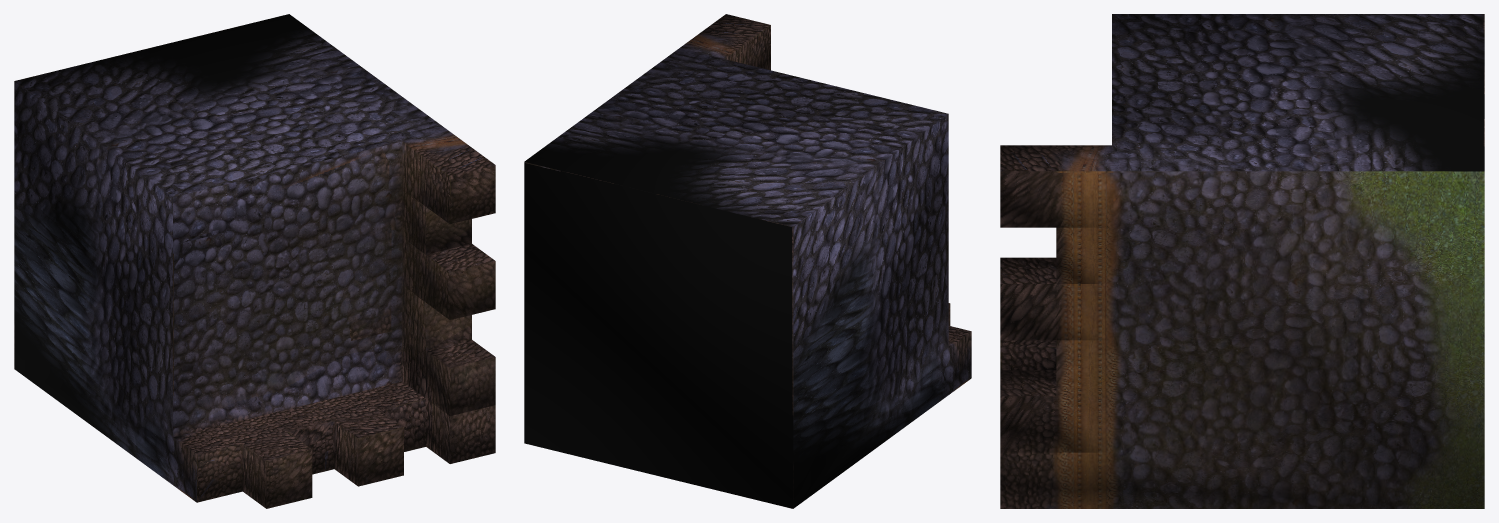
The model's file is Safeworld_wall_2.fbx.
3 views of the same model, side by side, from view 1: azimuth 30°, elevation 25°; view 2: azimuth 150°, elevation 25°; view 3: azimuth 270°, elevation 25° (orthographic). The views are drawn at different scales.
Parts seen in each view (by area): view 1: SafeworldWall_2; view 2: SafeworldWall_2; view 3: SafeworldWall_2.
Part boxes in pixels (bbox=[...]): SafeworldWall_2: bbox=[14, 14, 495, 508]; SafeworldWall_2: bbox=[524, 14, 971, 508]; SafeworldWall_2: bbox=[1000, 14, 1484, 508].
Size of the model in its own units: 10 by 10 by 13.
1 material, 1 textured.
